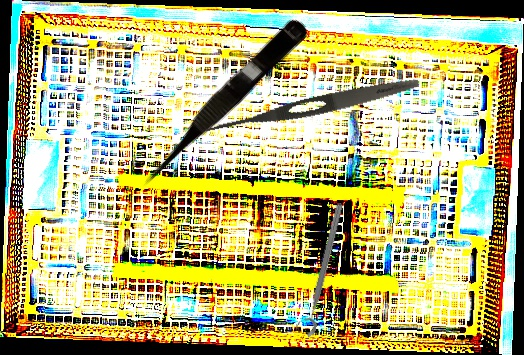Dressing Forceps: (203, 72, 421, 142)
Fixation Ring: (293, 200, 347, 339)
Micro Scissor: (129, 11, 313, 195)
